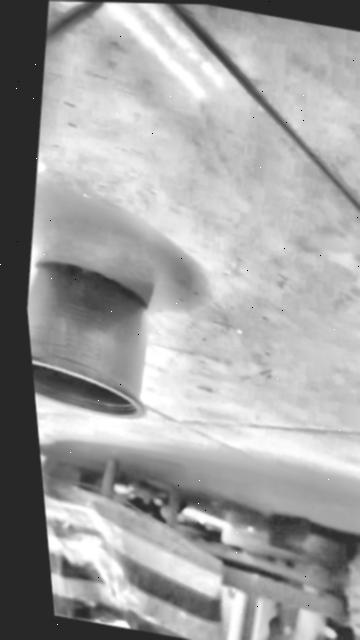pot: (23, 257, 165, 420)
